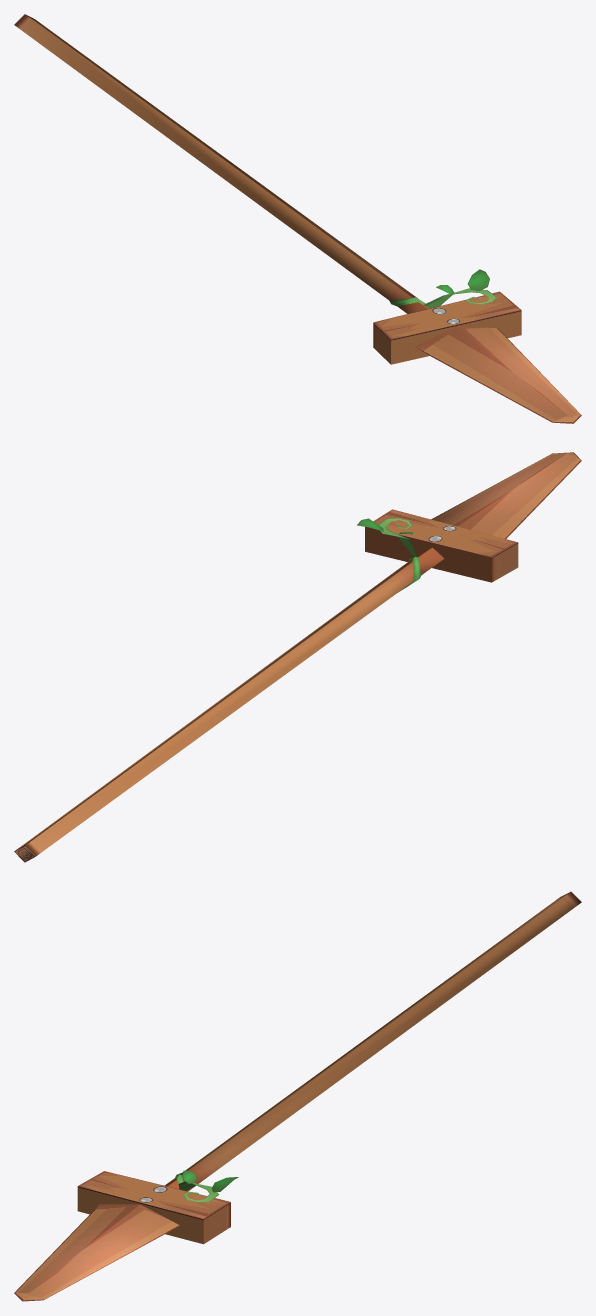
File: lance0031.fbx
The picture shows the model from 3 angles, top to bottom: view 1: azimuth 30°, elevation 25°; view 2: azimuth 150°, elevation 25°; view 3: azimuth 330°, elevation 25°; orthographic projection.
Parts seen in each view (by area): view 1: lance0031_ma; view 2: lance0031_ma; view 3: lance0031_ma.
Part boxes in pixels (x1,y1,x2,y2): lance0031_ma: (14, 14, 581, 423); lance0031_ma: (14, 452, 581, 862); lance0031_ma: (14, 891, 581, 1301).
Bounding box in the file's own units: 0.2286 × 0.066 × 1.66.
Materials: 1 (1 with a texture image).
